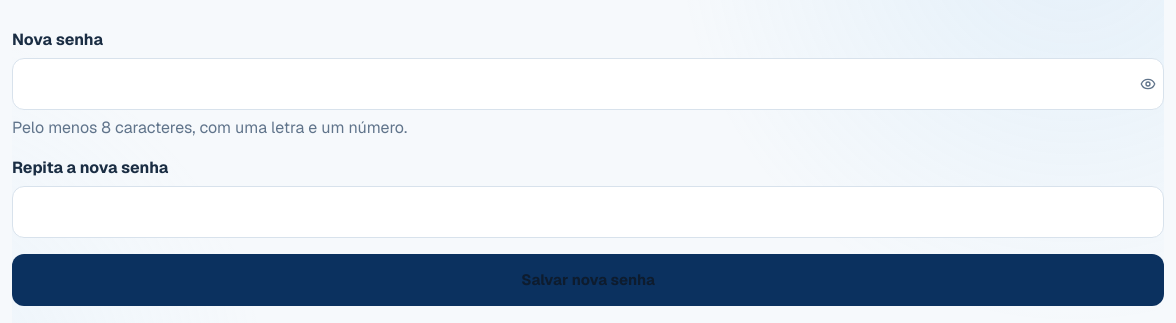
Test: acessibilidade do campo de senha › o botão de mostrar/ocultar diz qual ação vai executar
This screenshot has width=1176, height=323.
Step 1. Click the button named "mostrar senha" → (1148, 84), box [1140,76,1156,92]
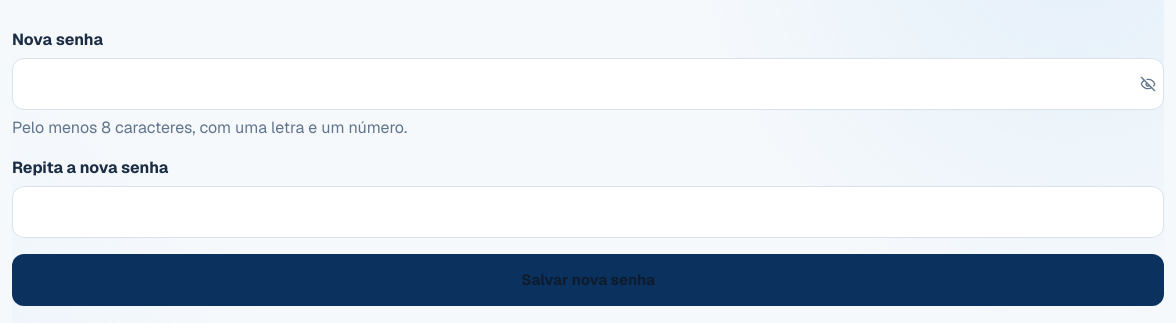
Expected: the button named "ocultar senha" is shown, [1140,76,1156,92]
